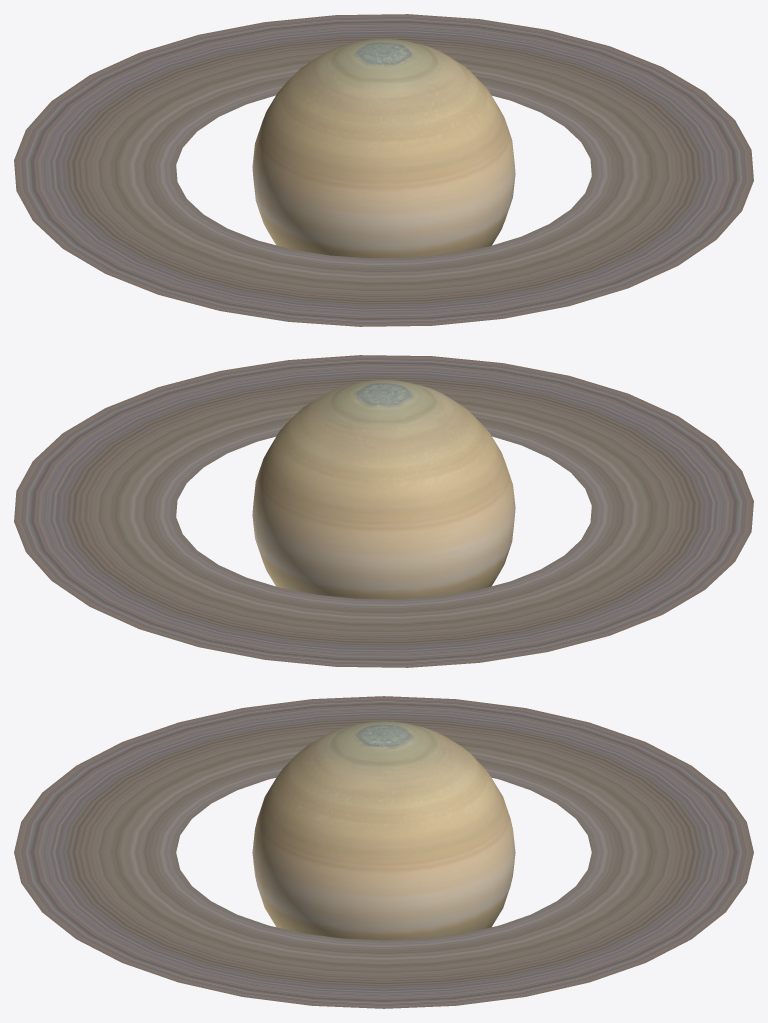
Rendered from saturn.glb.
3 views of the same model, one above another, from view 1: azimuth 30°, elevation 25°; view 2: azimuth 150°, elevation 25°; view 3: azimuth 270°, elevation 25° (orthographic).
Parts seen in each view (by area): view 1: Circle, Sphere; view 2: Circle, Sphere; view 3: Circle, Sphere.
Boxes of the visible parts, x1,y1,x2,y2 form: Circle: (14, 14, 753, 326); Sphere: (252, 39, 515, 258); Circle: (14, 355, 753, 667); Sphere: (252, 380, 515, 599); Circle: (14, 696, 753, 1008); Sphere: (252, 721, 515, 940).
Bounding box in the file's own units: 5.62 × 2 × 5.62.
2 materials, 2 textured.
